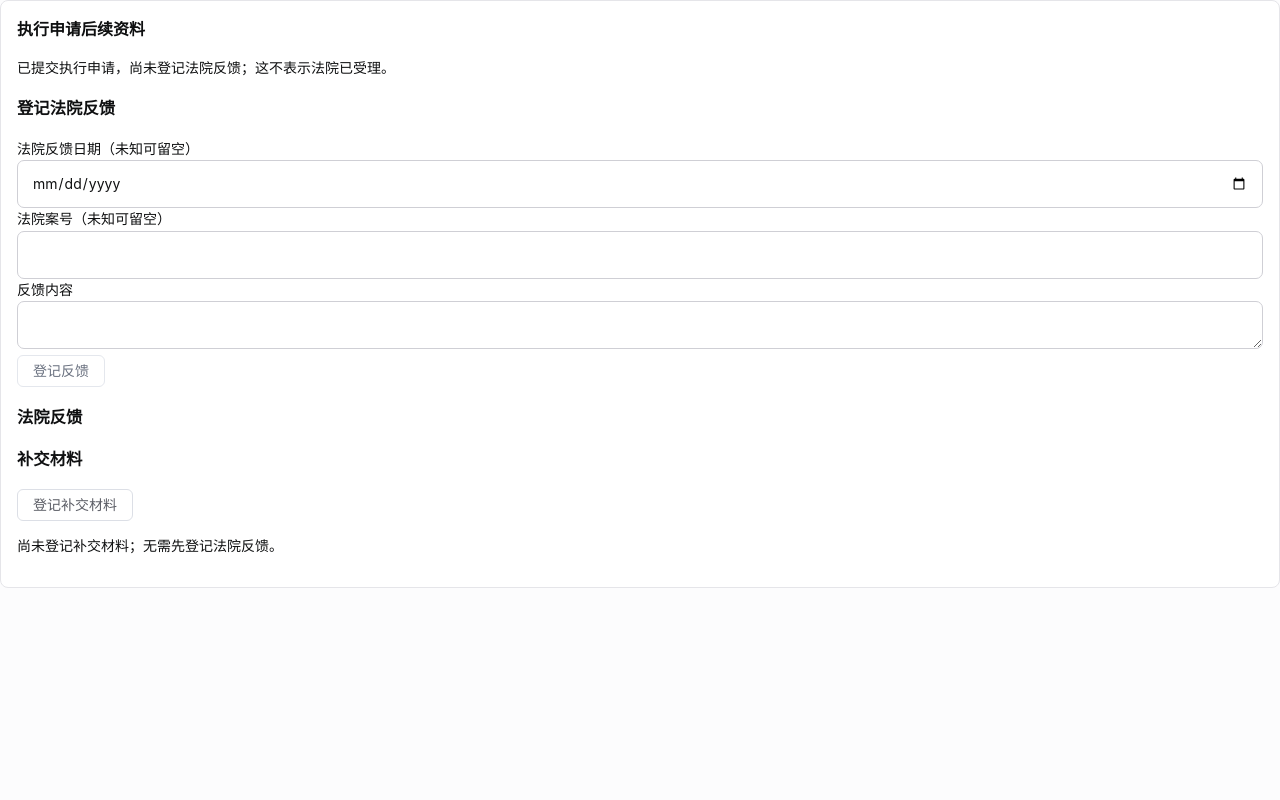
it: execution filing followup panel › routes lawyer feedback only to the lawyer API and requires a fresh read
This screenshot has width=1280, height=800.
In the text box with test id "followup-content": (640,325) [17,301,1263,349], type "回执"
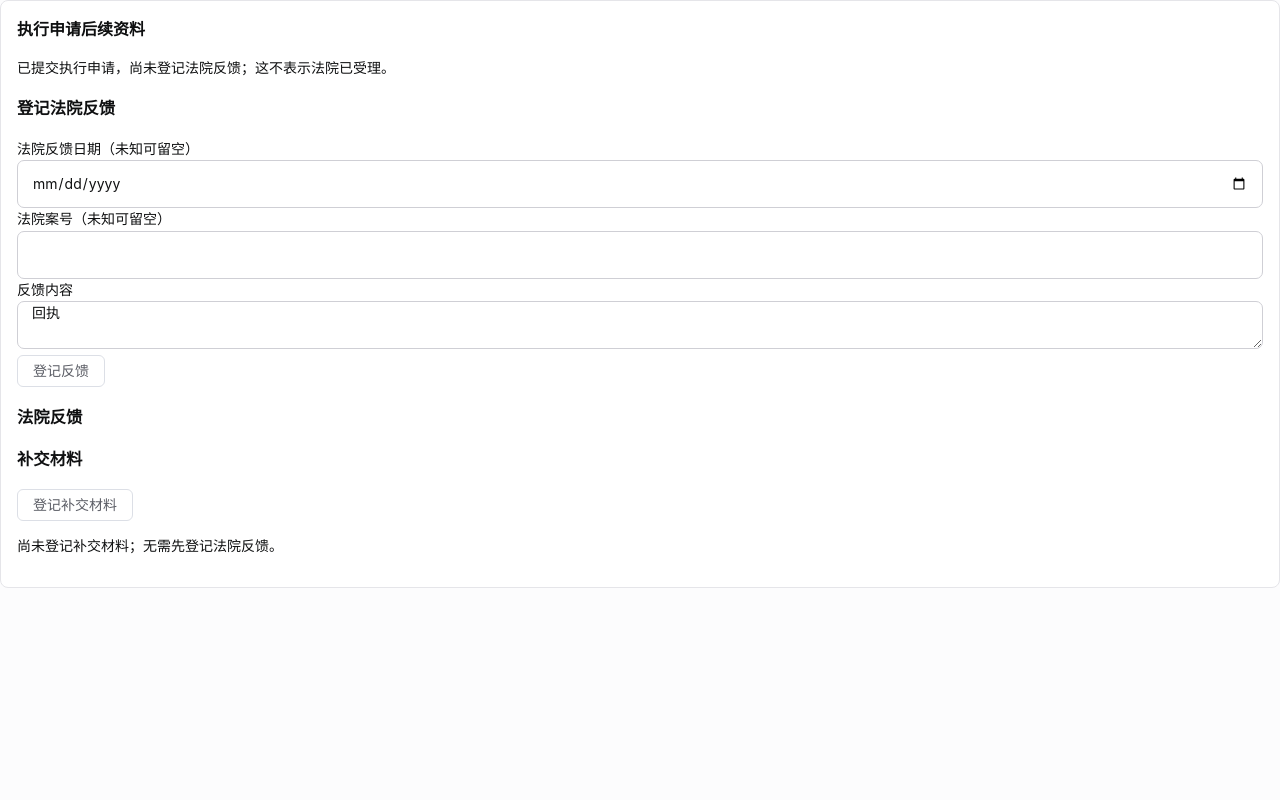
Click the button with test id "followup-submit": (61,372) [17,356,105,388]
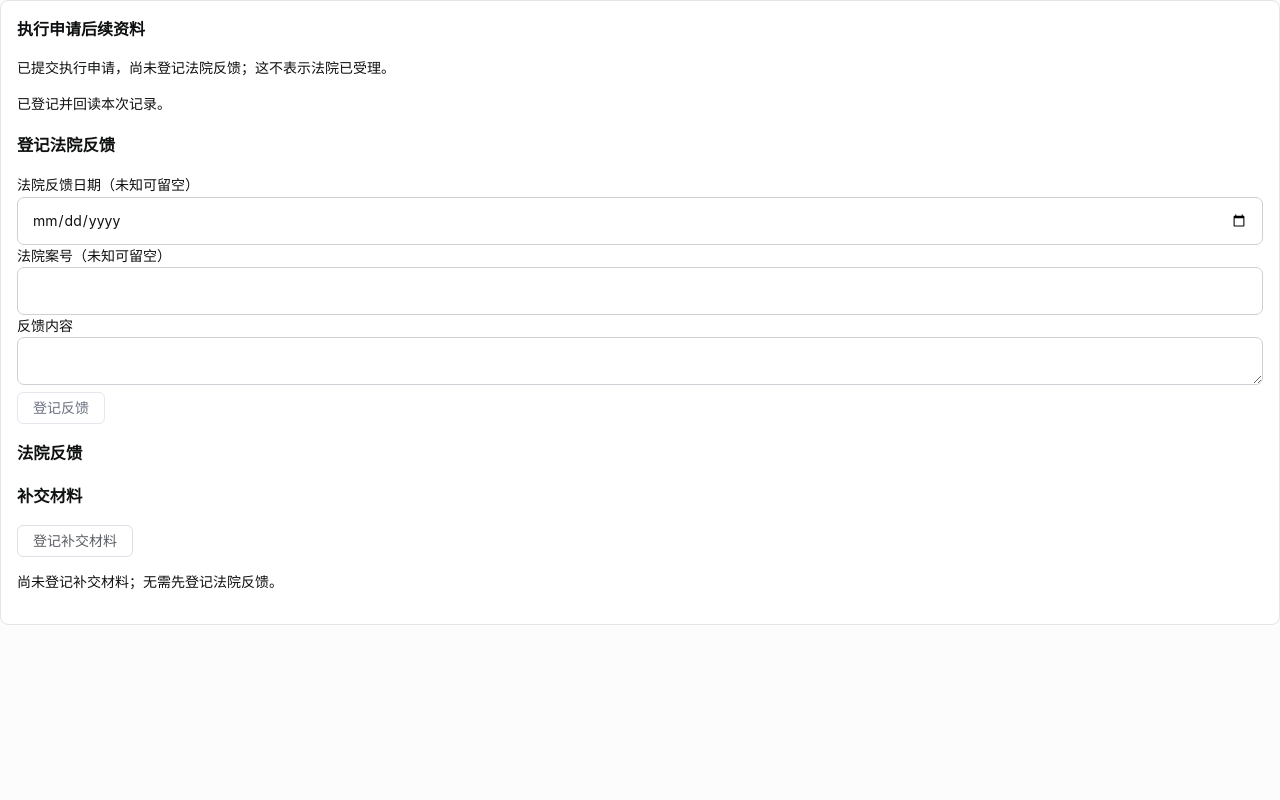
Check: the text "已登记并回读" is shown, box [17,95,171,112]
